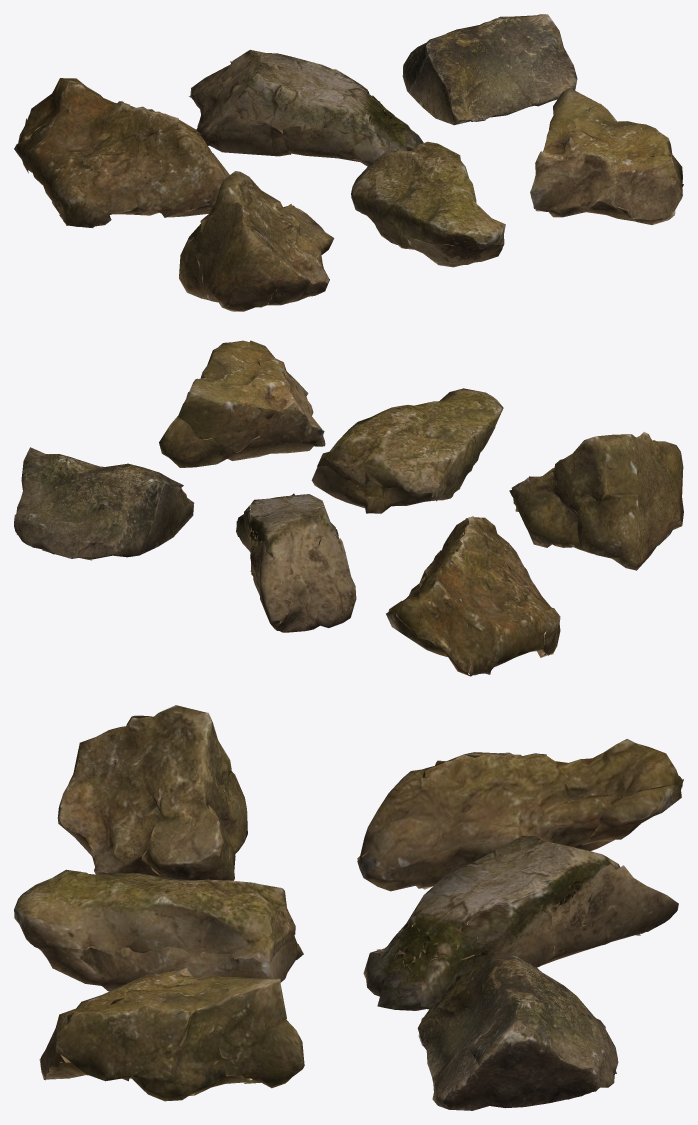
File: MossRocks.glb
3 views of the same model, one above another, from view 1: azimuth 30°, elevation 25°; view 2: azimuth 150°, elevation 25°; view 3: azimuth 270°, elevation 25° (orthographic). The views are drawn at different scales.
Parts seen in each view (by area): view 1: MossRocks; view 2: MossRocks; view 3: MossRocks.
Boxes of the visible parts, left/top/right/bottom form: MossRocks: left=14, top=14, right=683, bottom=311; MossRocks: left=14, top=340, right=683, bottom=676; MossRocks: left=14, top=705, right=683, bottom=1110.
Size of the model in its own units: 7.98 by 1.77 by 6.95.
Materials: 1 (1 with a texture image).
